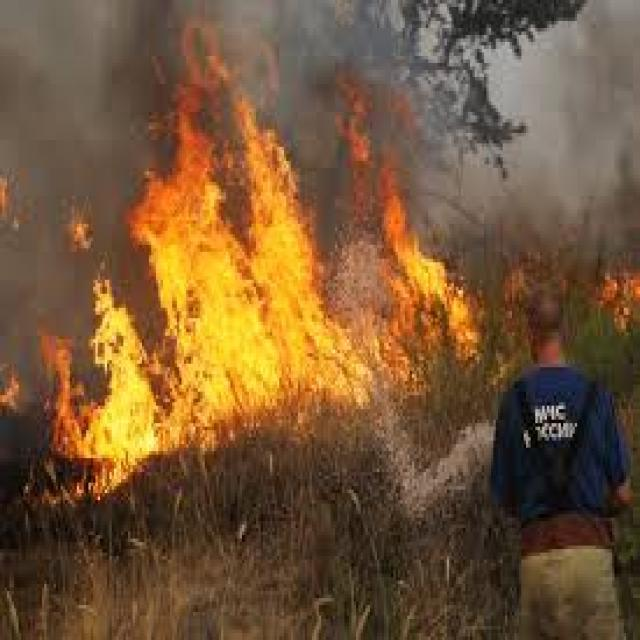Fire: (128, 187, 368, 424), (30, 308, 202, 466), (381, 198, 461, 386), (598, 252, 640, 340), (450, 286, 480, 362)
Smoke: (480, 14, 640, 231), (7, 15, 131, 182), (1, 219, 63, 290)
